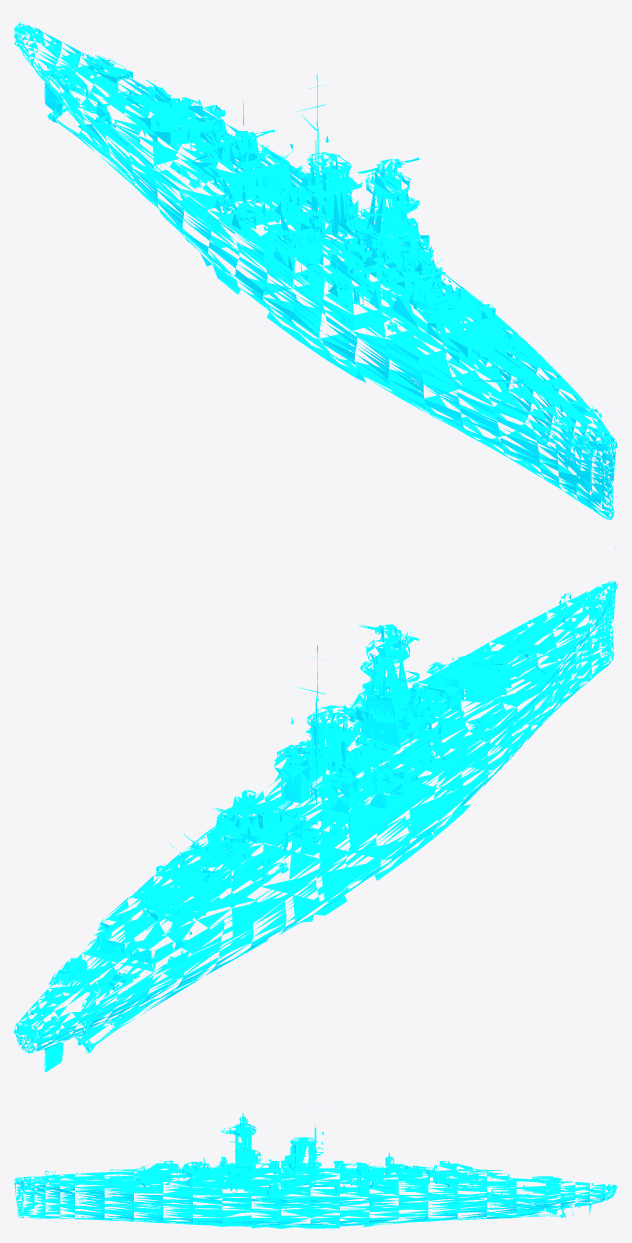
Rendered from PGSC017.glb.
3 renders of one model, top to bottom at view 1: azimuth 30°, elevation 25°; view 2: azimuth 150°, elevation 25°; view 3: azimuth 270°, elevation 25°, orthographic. The views are drawn at different scales.
Visible parts, largest first — view 1: hull_mid, main_battery, secondary_battery, torpedo, superstructure, aa_mount; view 2: hull_mid, main_battery, secondary_battery, torpedo, superstructure; view 3: hull_mid, main_battery, secondary_battery, torpedo, superstructure.
Boxes of the visible parts, x1,y1,x2,y2 form: hull_mid: [14, 22, 617, 519]; main_battery: [115, 80, 536, 372]; secondary_battery: [199, 122, 444, 297]; torpedo: [48, 55, 132, 93]; superstructure: [213, 129, 445, 281]; aa_mount: [177, 144, 482, 332]; hull_mid: [14, 548, 617, 1072]; main_battery: [115, 636, 536, 930]; secondary_battery: [199, 724, 443, 868]; torpedo: [48, 958, 132, 997]; superstructure: [213, 624, 445, 828]; hull_mid: [14, 1124, 617, 1228]; main_battery: [109, 1160, 502, 1184]; secondary_battery: [229, 1155, 433, 1194]; torpedo: [532, 1176, 562, 1193]; superstructure: [203, 1113, 393, 1176].
Bounding box in the file's own units: 1.54 × 2.66 × 12.43.
